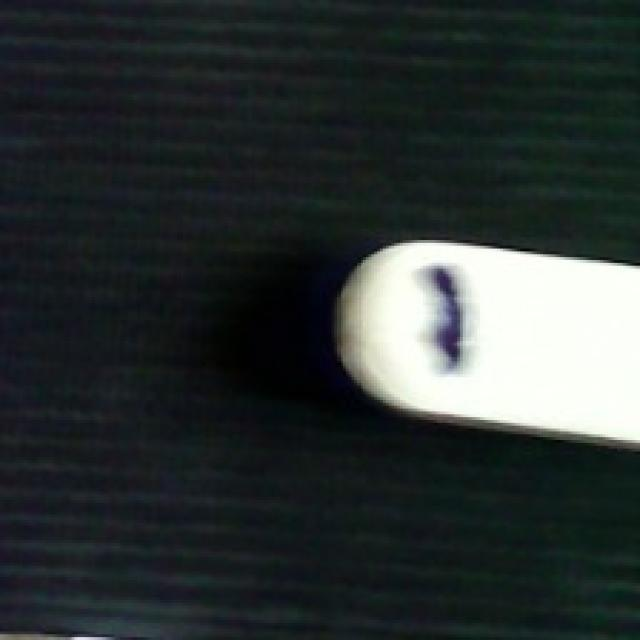defected: (323, 240, 640, 449)
